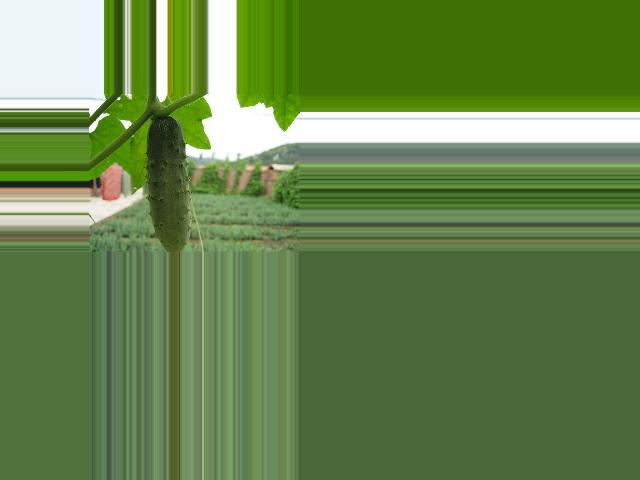cucumber: (146, 116, 190, 253)
